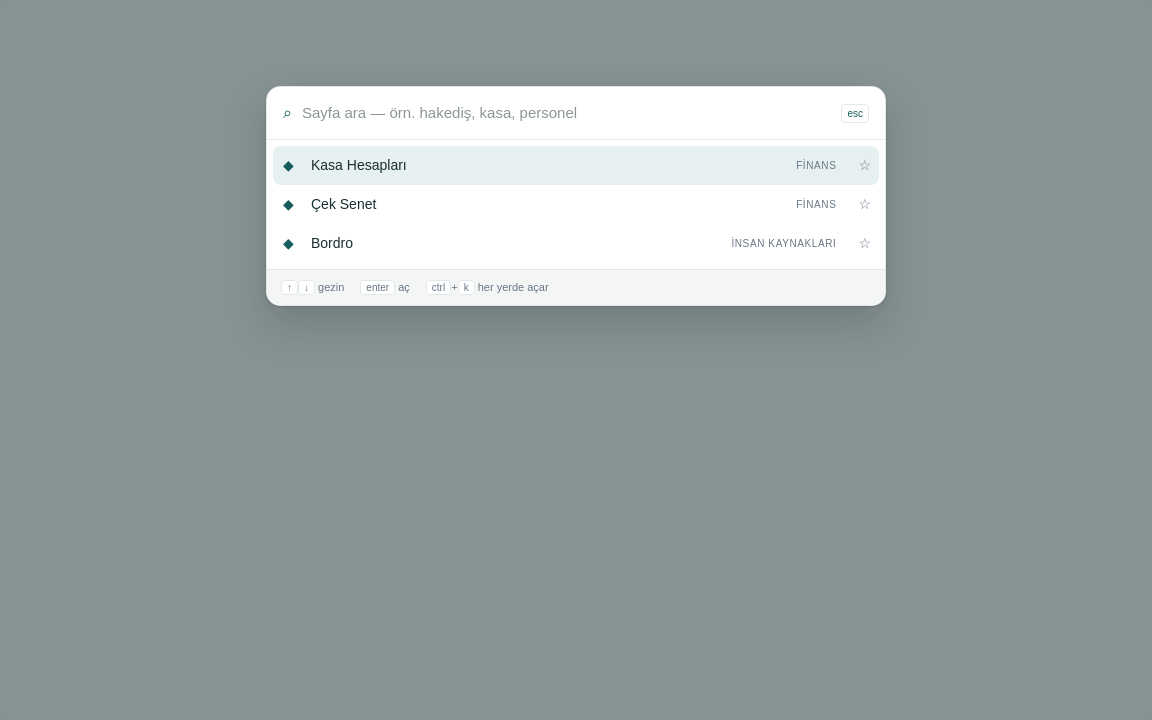
Scenario: CommandPalette › Türkçe karakter yazılmadan da bulur
Type "cek" into the field labelled "Sayfa ara" at (567, 113), box [302,102,832,125]
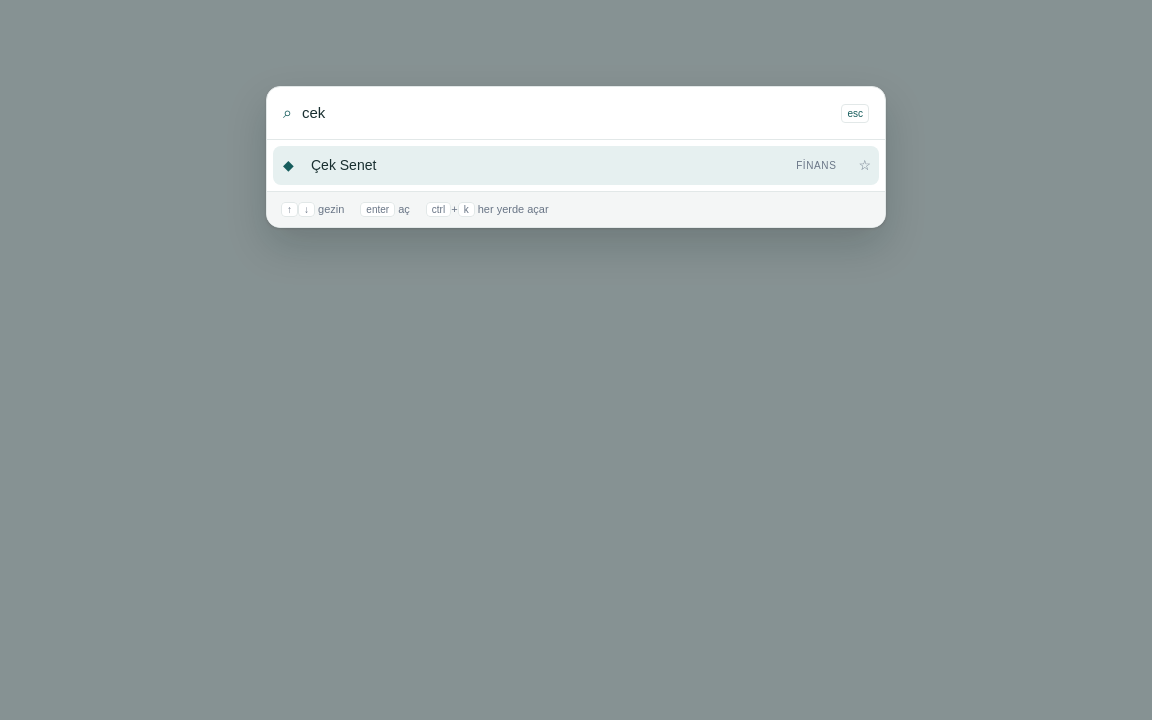
Check: the text "Çek Senet" is shown, box [311,157,376,173]
Check: the option "Bordro" is gone
